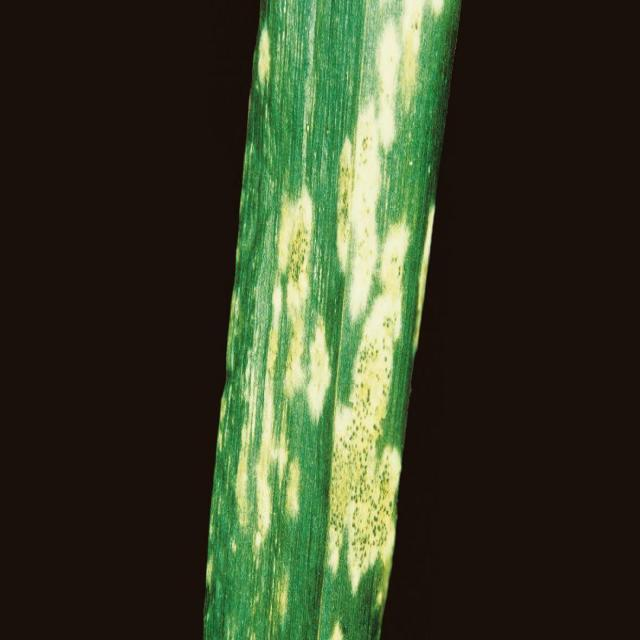wheat-powdery-mildew: (201, 0, 464, 640)
